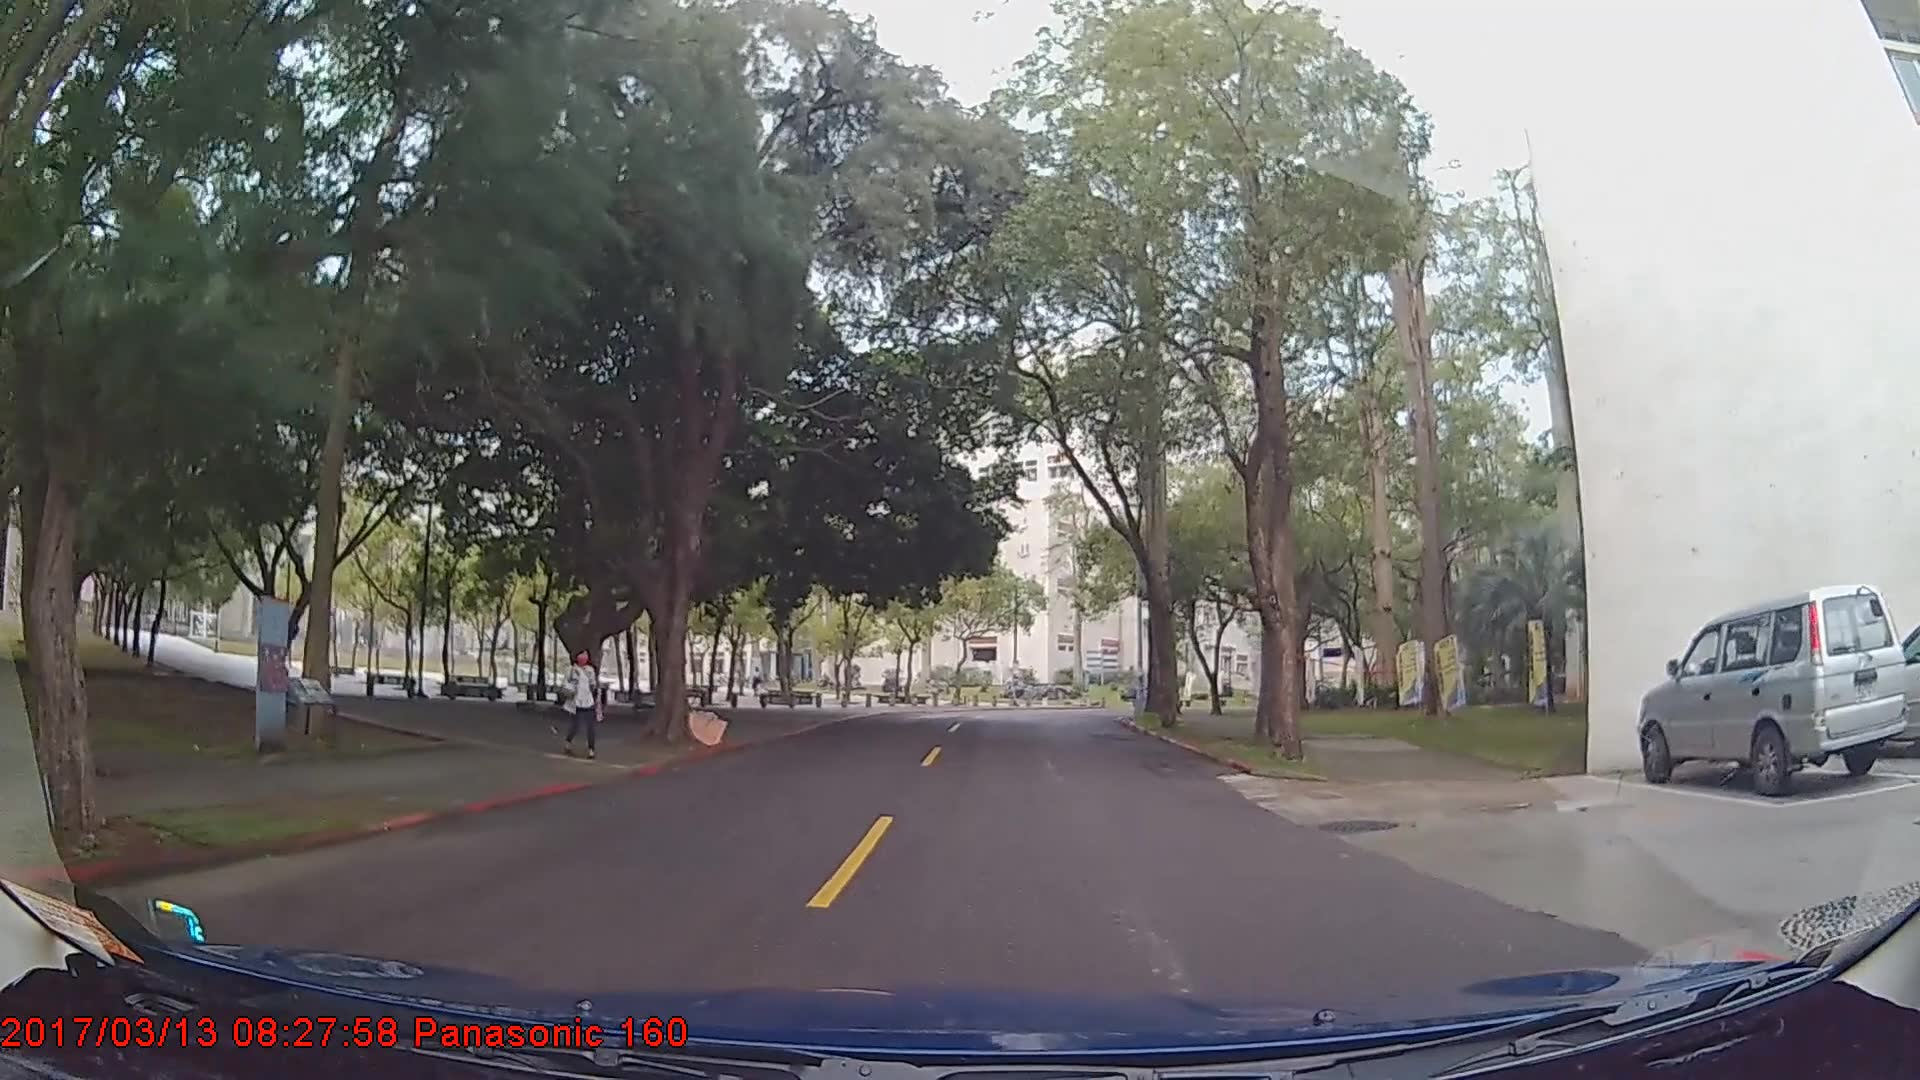pedestrian: (561, 648, 605, 755)
vehicle: (1637, 585, 1905, 800)
